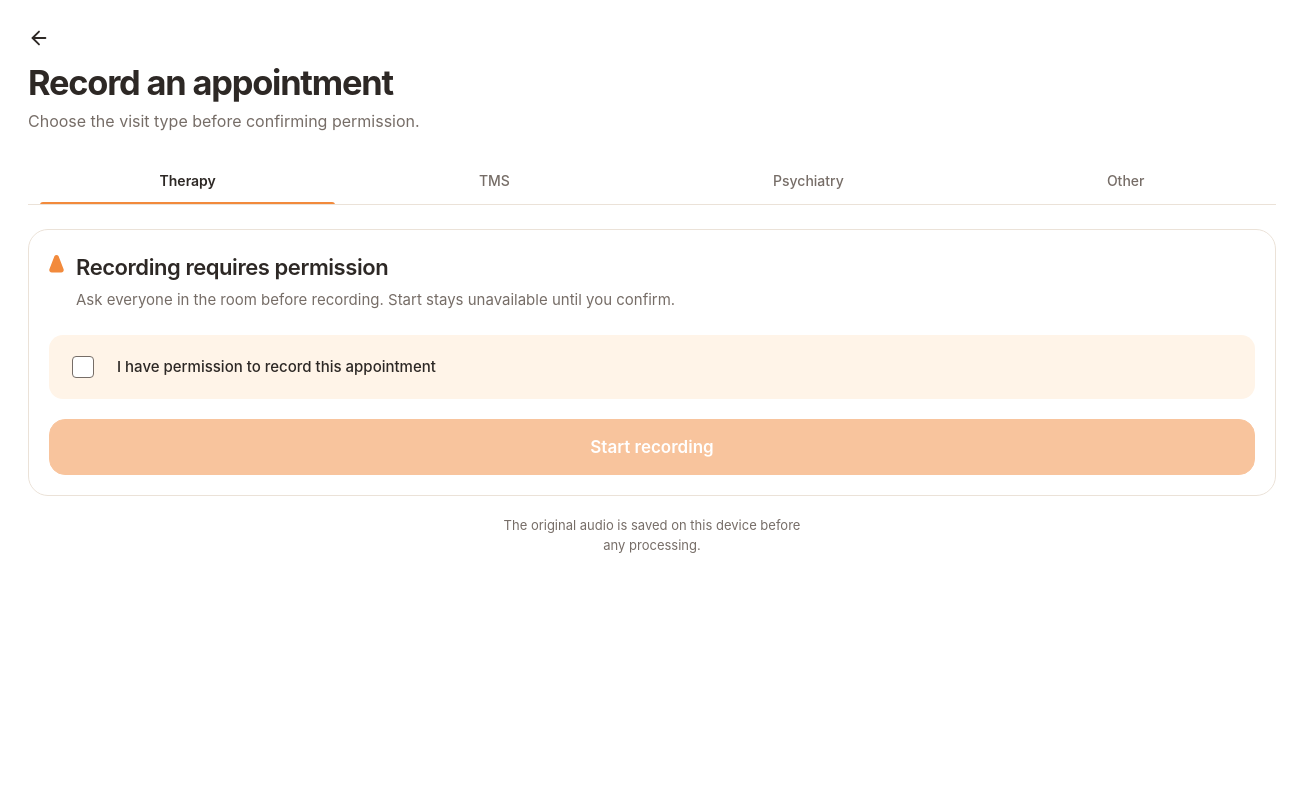
Test case: appointment consent › starts only after consent and safely blocks rapid repeated activation
Click the checkbox labelled "I have permission to record this appointment": (276, 366) x1=49 y1=335 x2=1255 y2=399
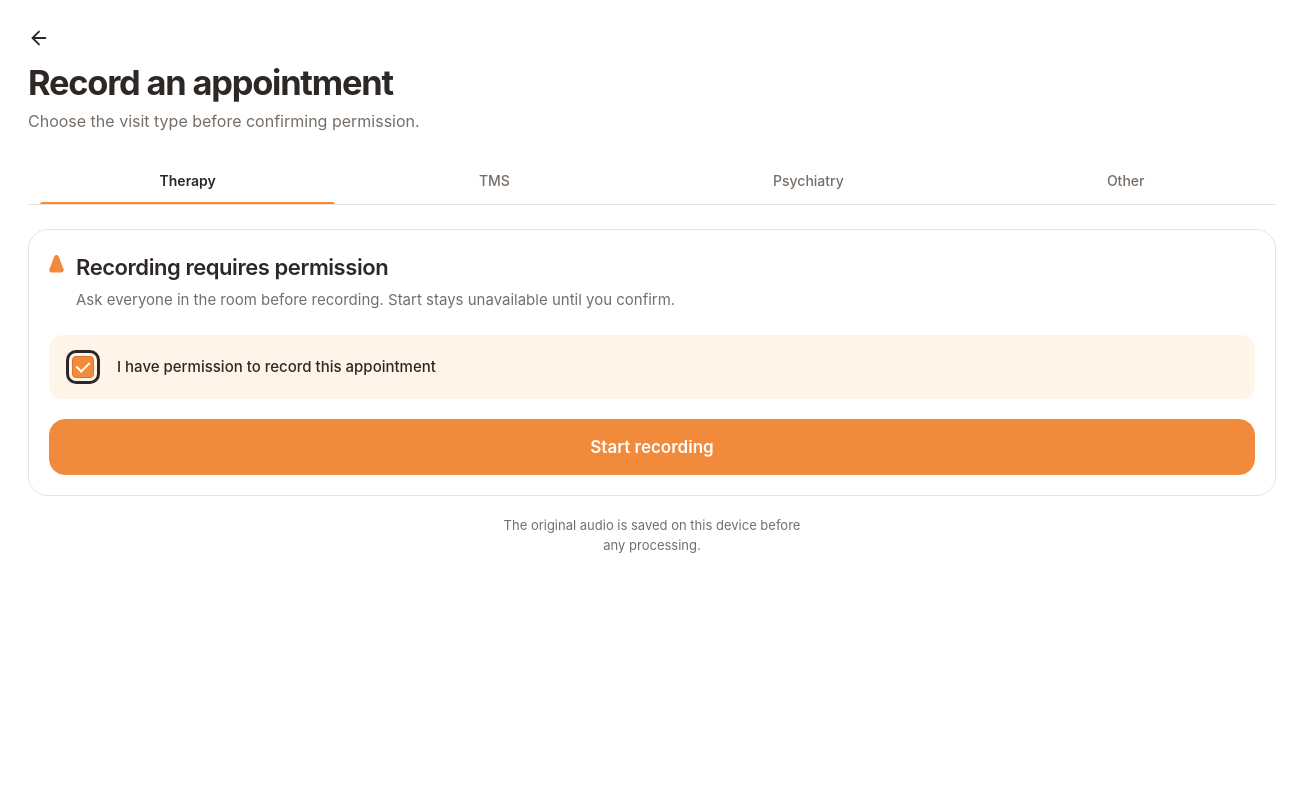
Double-click the button "Start recording": (652, 447) x1=49 y1=419 x2=1255 y2=475
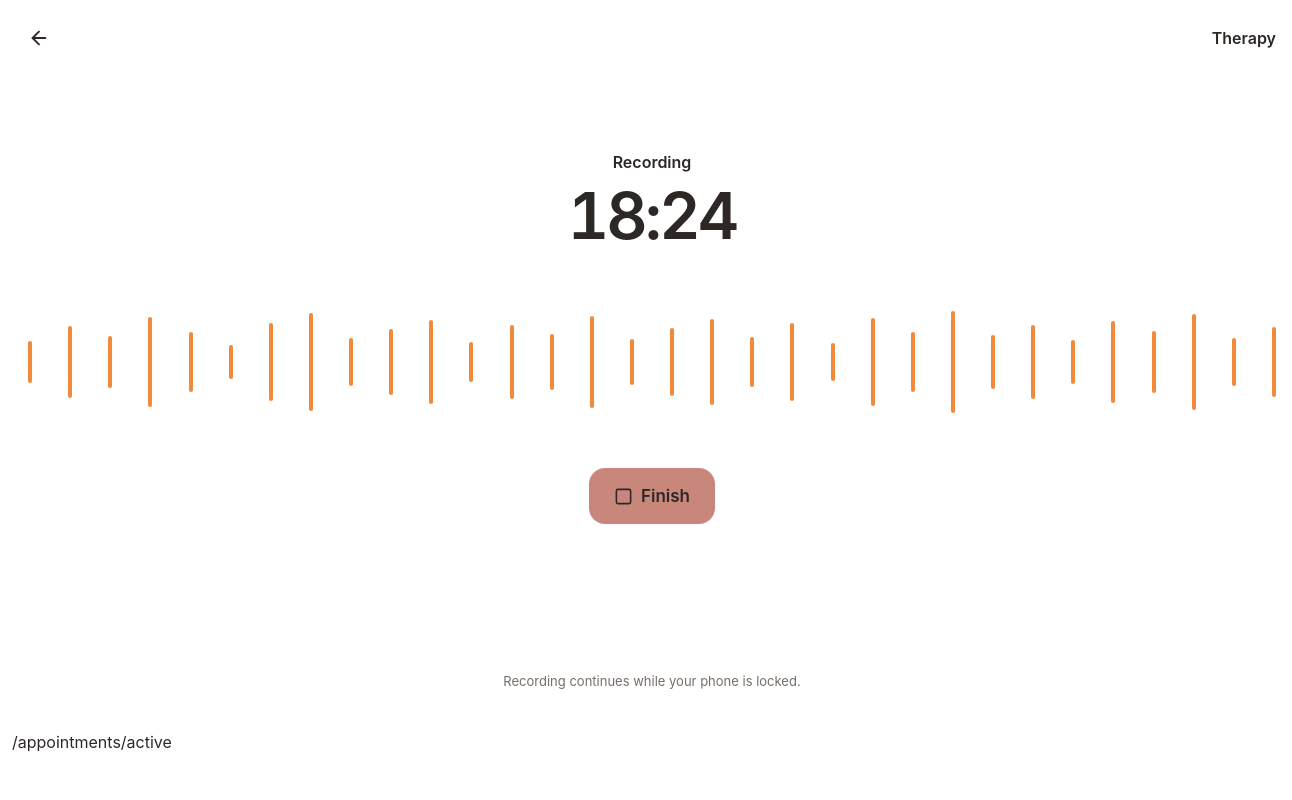
Check: the text named "Current path" reads "/appointments/active", box x1=12 y1=732 x2=172 y2=752
Check: the text "Recording" is shown, box x1=613 y1=152 x2=691 y2=172
